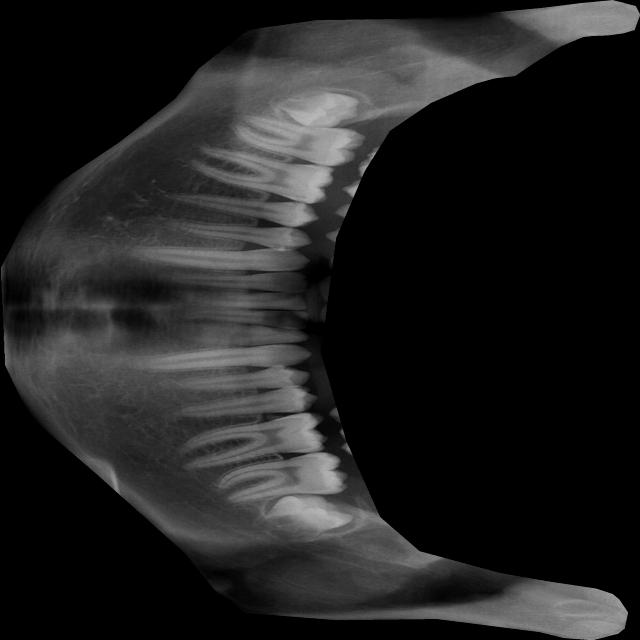mandibula: (0, 0, 639, 640)
